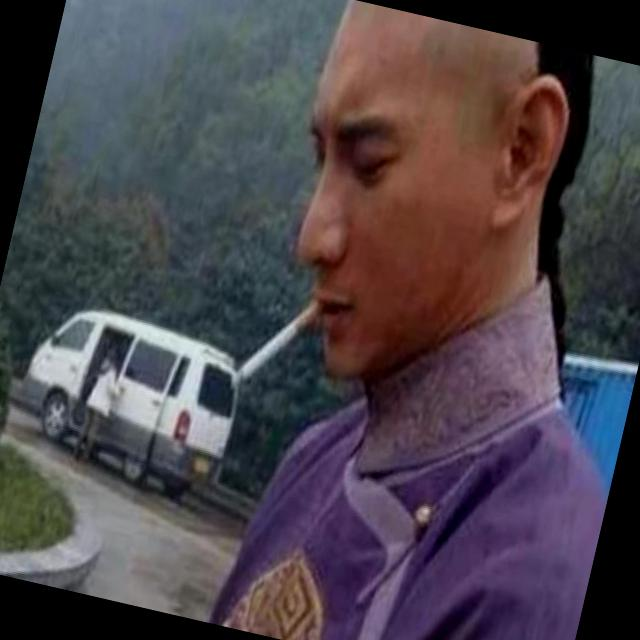smoke: (222, 270, 332, 408)
